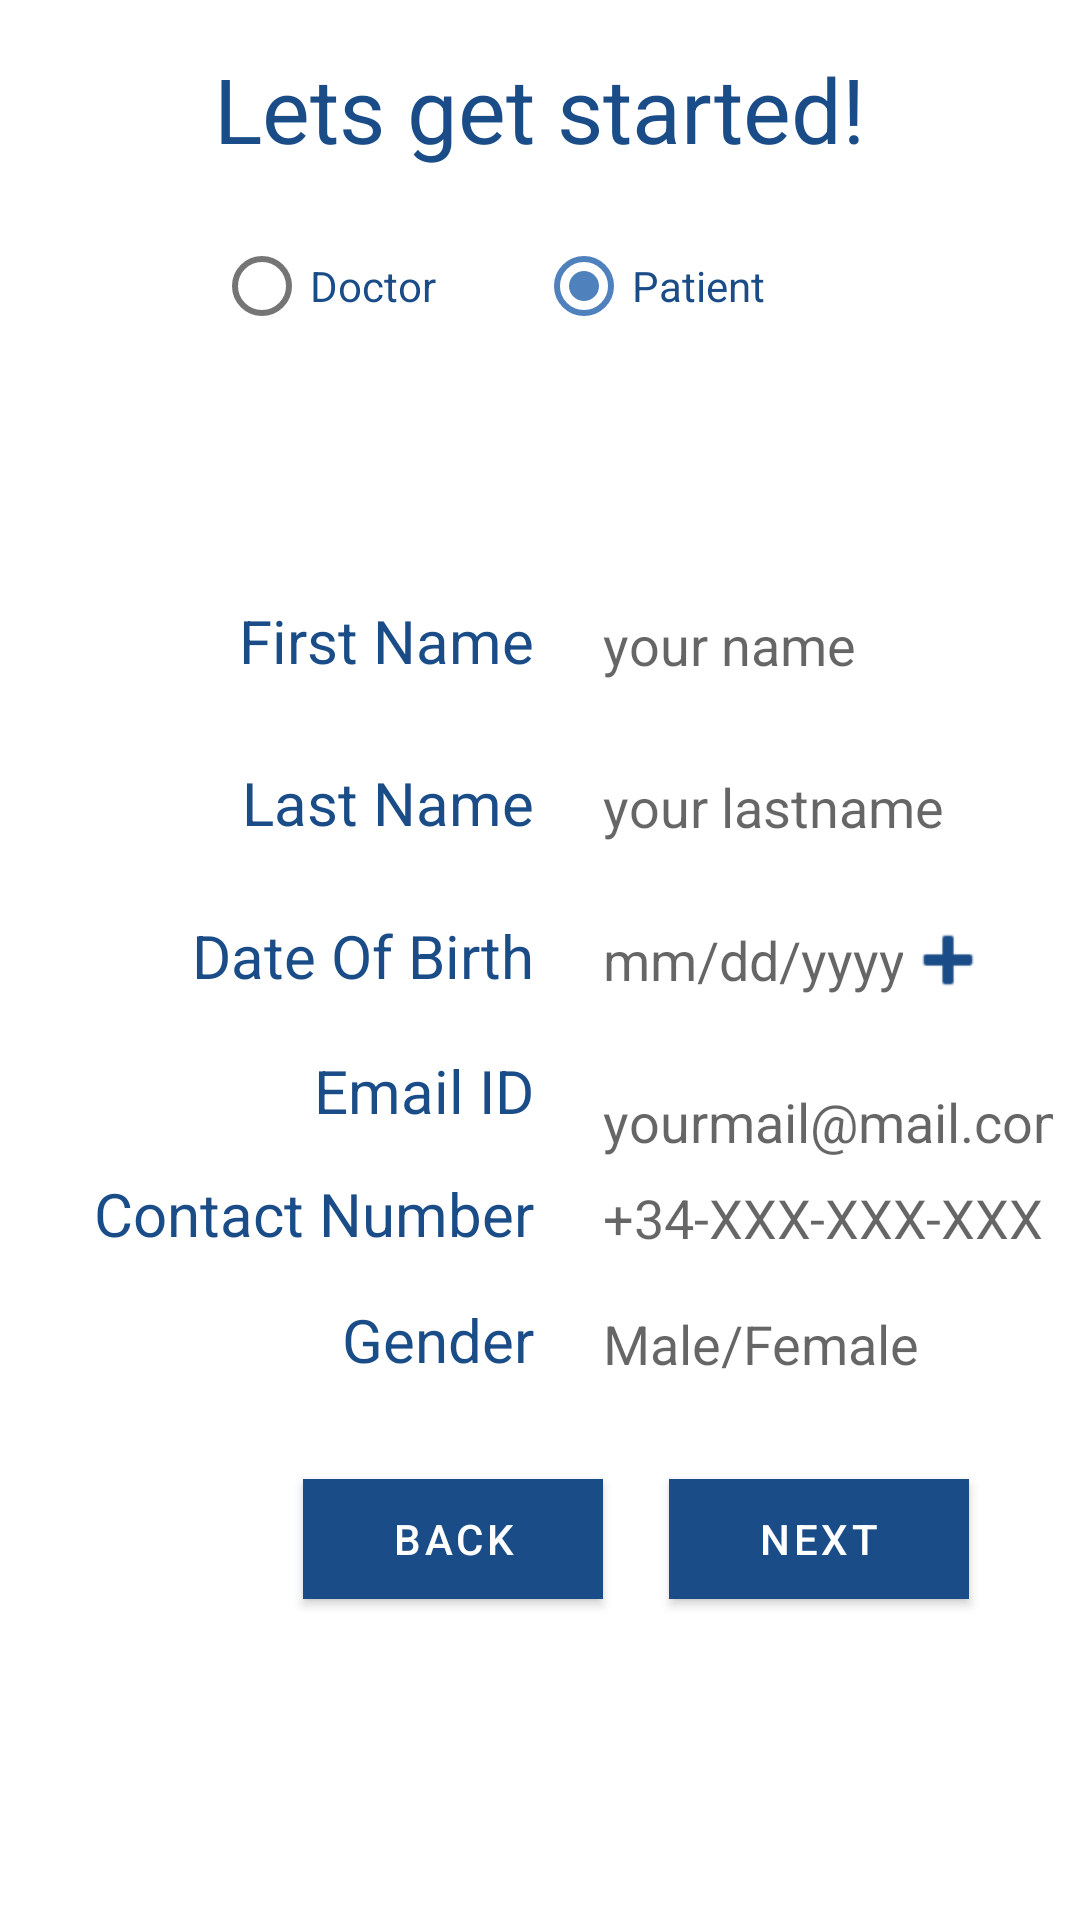

Icon bounding boxes for this 1080 × 1920 phone screenshot, format (x1, y1, x2, y2):
add: (922, 934, 974, 986)
